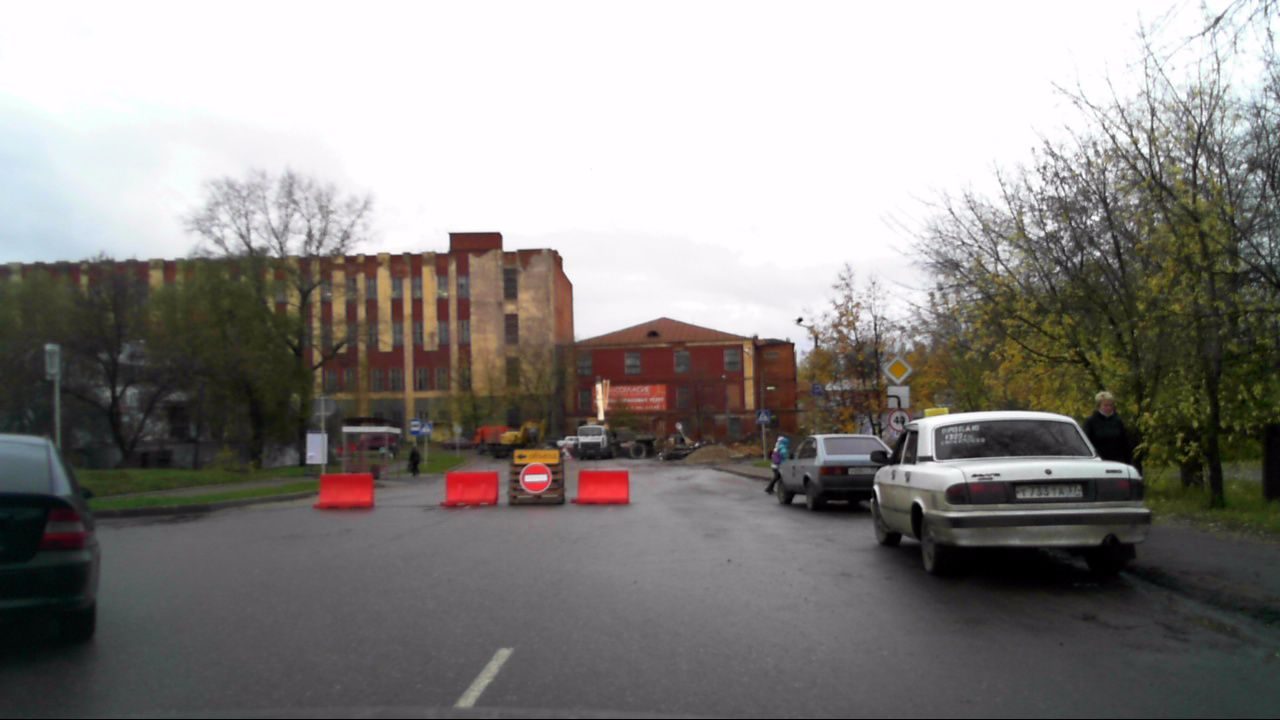speed_warning_40: (888, 409, 913, 433)
